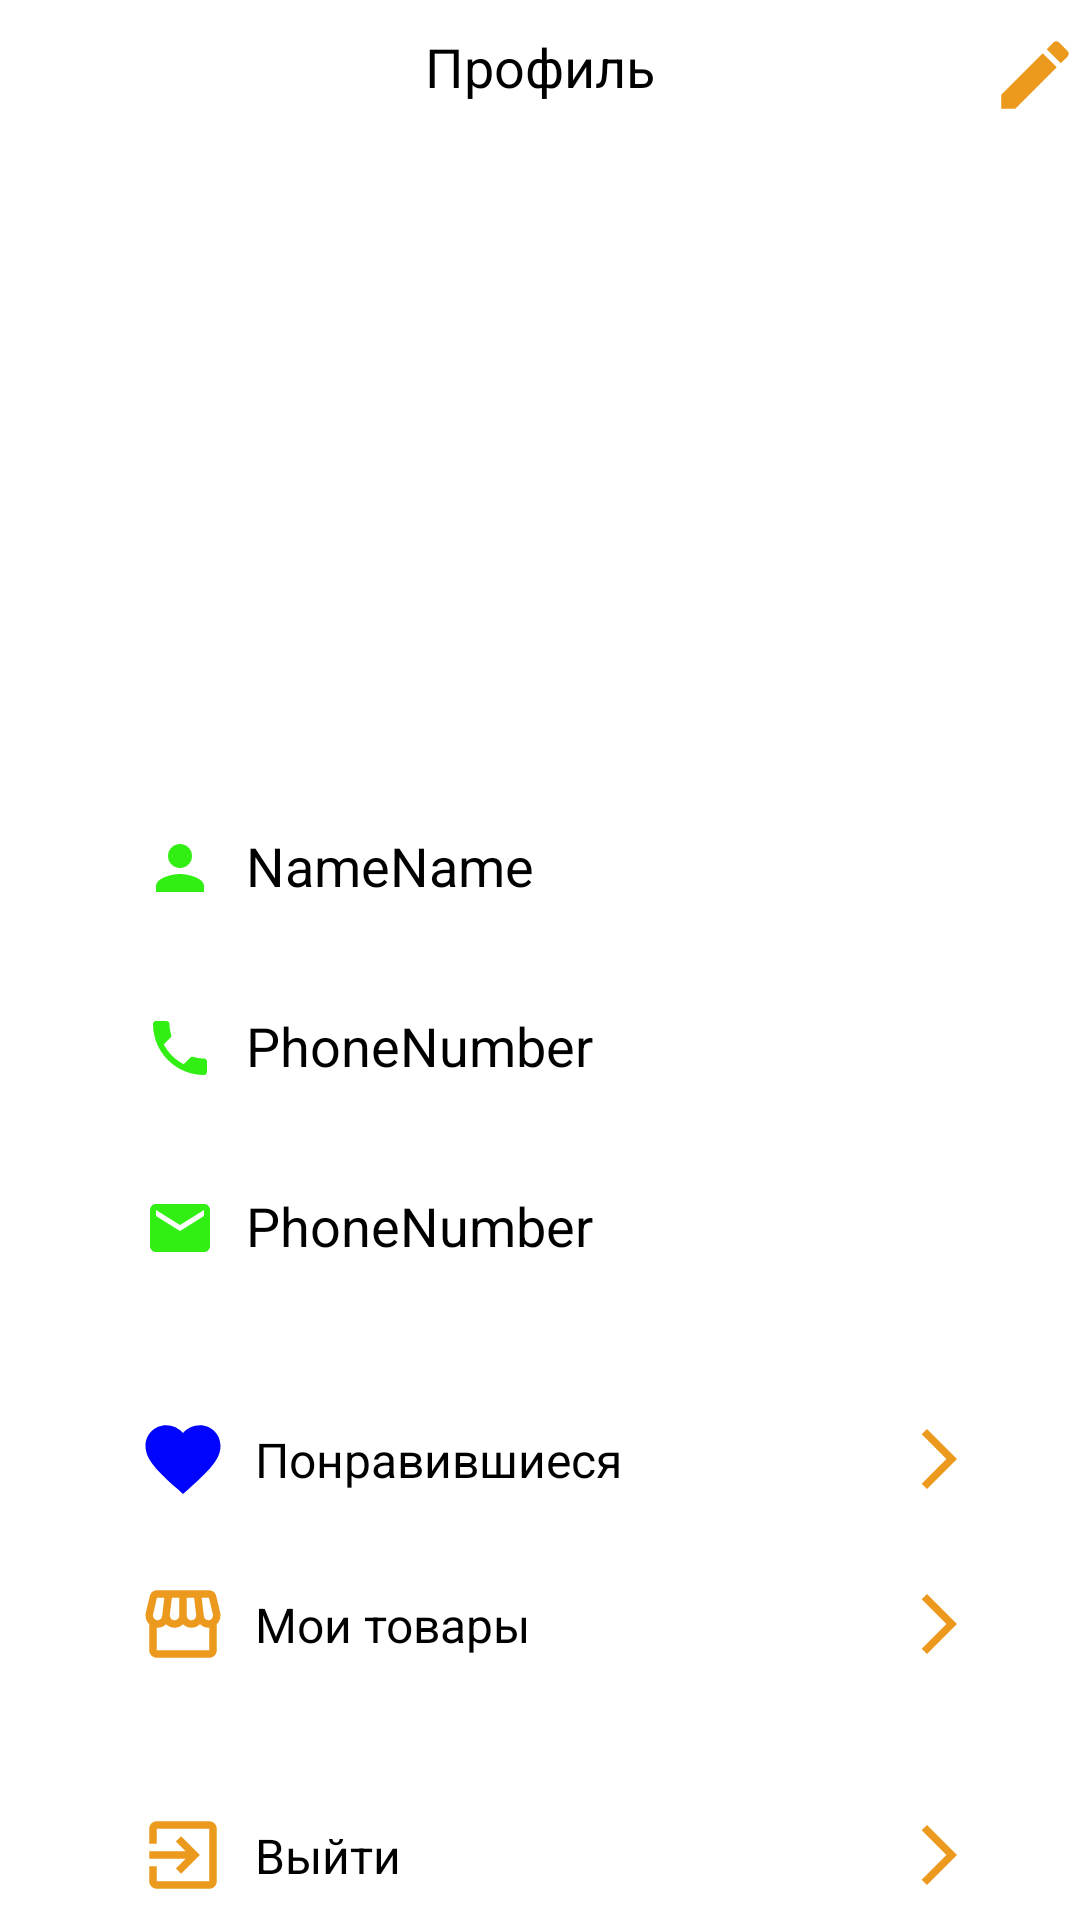

Icons on this 1080 x 1920 Android screen, each with its box as [left=x1, top=y1, right=x2, bottom=y2]:
arrow: [left=922, top=1429, right=957, bottom=1489], [left=922, top=1594, right=957, bottom=1654], [left=922, top=1825, right=957, bottom=1885]
edit: [left=1001, top=41, right=1069, bottom=109]
exit to app: [left=149, top=1821, right=217, bottom=1889]
heart: [left=145, top=1425, right=221, bottom=1494]
store: [left=145, top=1590, right=221, bottom=1658]
